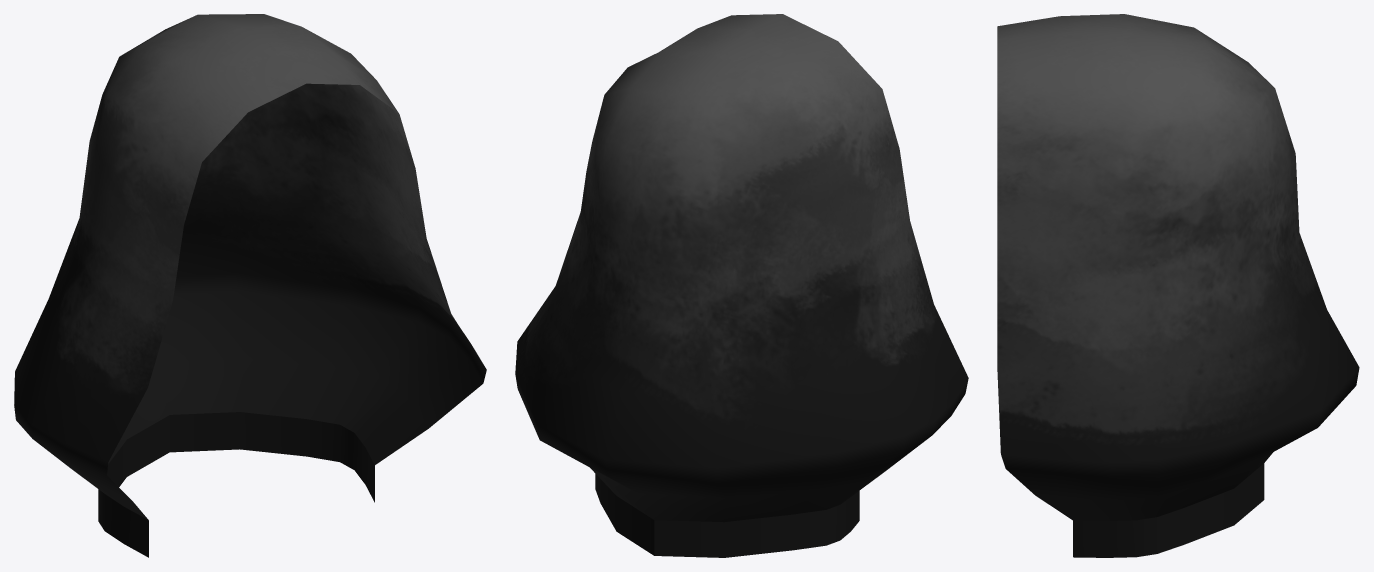
The model's file is AM_CharacterAnim02_CapeTest_Capuche.FBX.
3 renders of one model, left to right at view 1: azimuth 30°, elevation 25°; view 2: azimuth 150°, elevation 25°; view 3: azimuth 270°, elevation 25°, orthographic. The views are drawn at different scales.
Visible parts, largest first — view 1: Box003; view 2: Box003; view 3: Box003.
Part boxes in pixels (box(x1,y1,x2,y2)): Box003: box(14, 14, 486, 557); Box003: box(515, 14, 968, 557); Box003: box(997, 14, 1359, 557).
Bounding box in the file's own units: 26.93 × 29.46 × 20.46.
